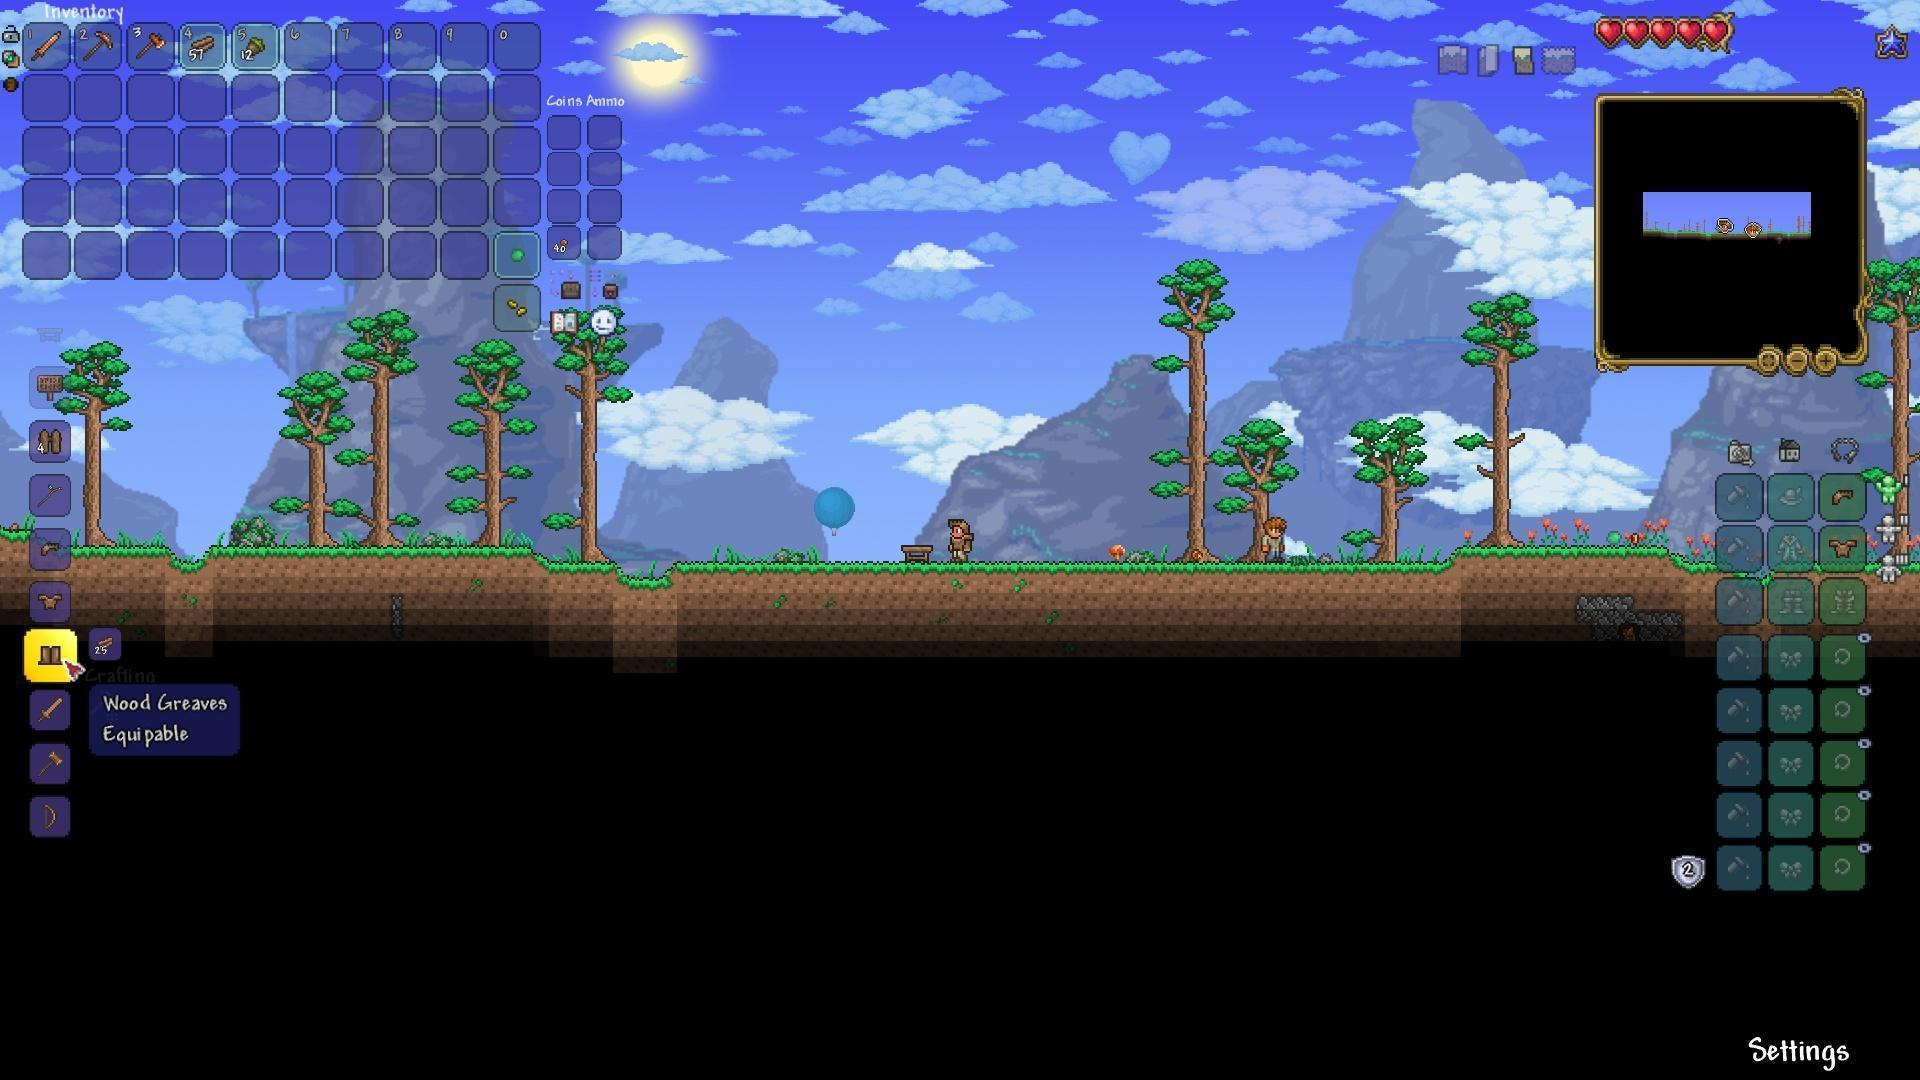breastplate: (1829, 537, 1859, 558), (36, 592, 66, 613)
helmet: (1826, 484, 1858, 512), (36, 535, 66, 563)
legs: (37, 641, 63, 670)
wood: (90, 630, 121, 661), (185, 29, 216, 59)
workbench: (899, 542, 938, 567)
